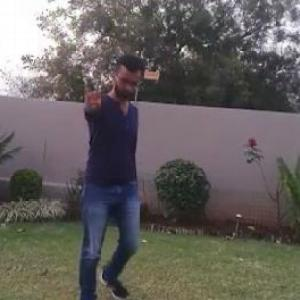takeoff-hand: (78, 75, 108, 115)
